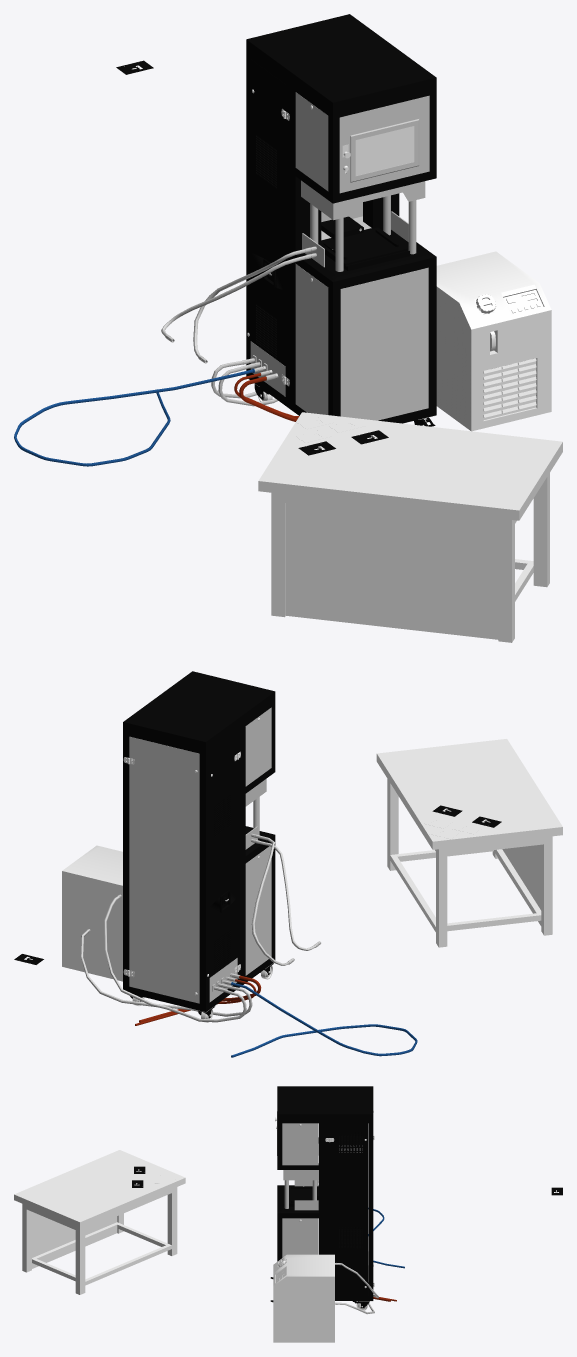
Rendered from RoherEmpty.fbx.
3 renders of one model, top to bottom at view 1: azimuth 30°, elevation 25°; view 2: azimuth 150°, elevation 25°; view 3: azimuth 270°, elevation 25°, orthographic. The views are drawn at different scales.
Parts seen in each view (by area): view 1: Body, Table, Chiller1, Podstava, ecran2; view 2: Body, Table, Chiller1; view 3: Body, Table, Chiller1, Podstava.
Part boxes in pixels (x1,y1,x2,y2): Body: (14,14,436,466); Table: (258,412,562,642); Chiller1: (436,251,551,431); Podstava: (318,216,409,270); ecran2: (355,126,414,175); Body: (81,671,417,1057); Table: (376,739,562,947); Chiller1: (62,845,122,981); Body: (277,1086,404,1314); Table: (14,1150,185,1294); Chiller1: (273,1254,334,1342); Podstava: (283,1186,318,1206).
Bounding box in the file's own units: 265 × 199 × 497.
